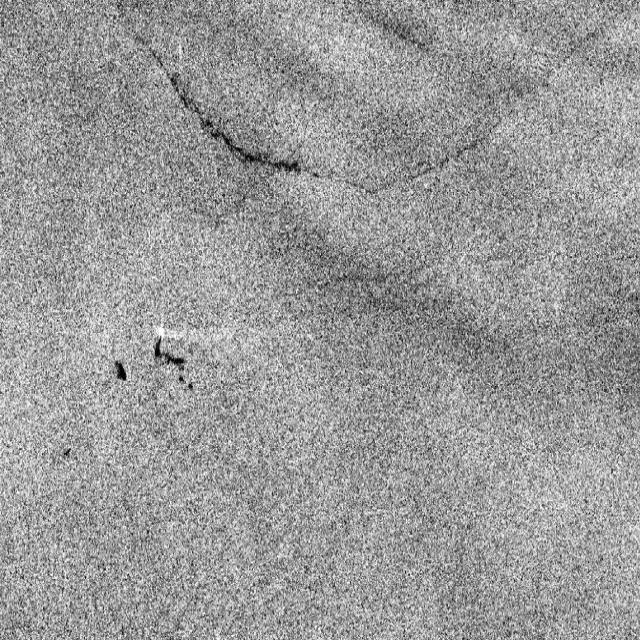look-alike: (142, 40, 302, 195)
oil-spill: (152, 341, 198, 397), (112, 356, 129, 385)
ship: (149, 312, 171, 344)
